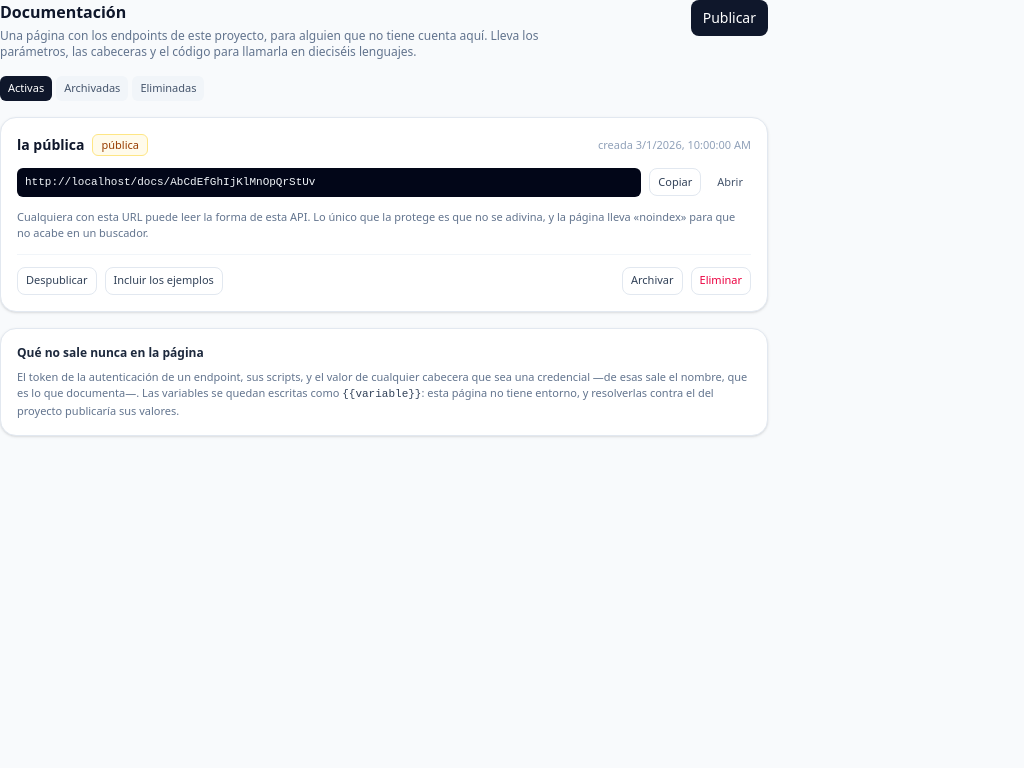
it: los tres filtros de la documentación › eliminar lo dice, y un fallo también
The width and height of the screenshot is (1024, 768).
Click the button "Eliminar".
click(721, 280)  # box [691,266,751,294]
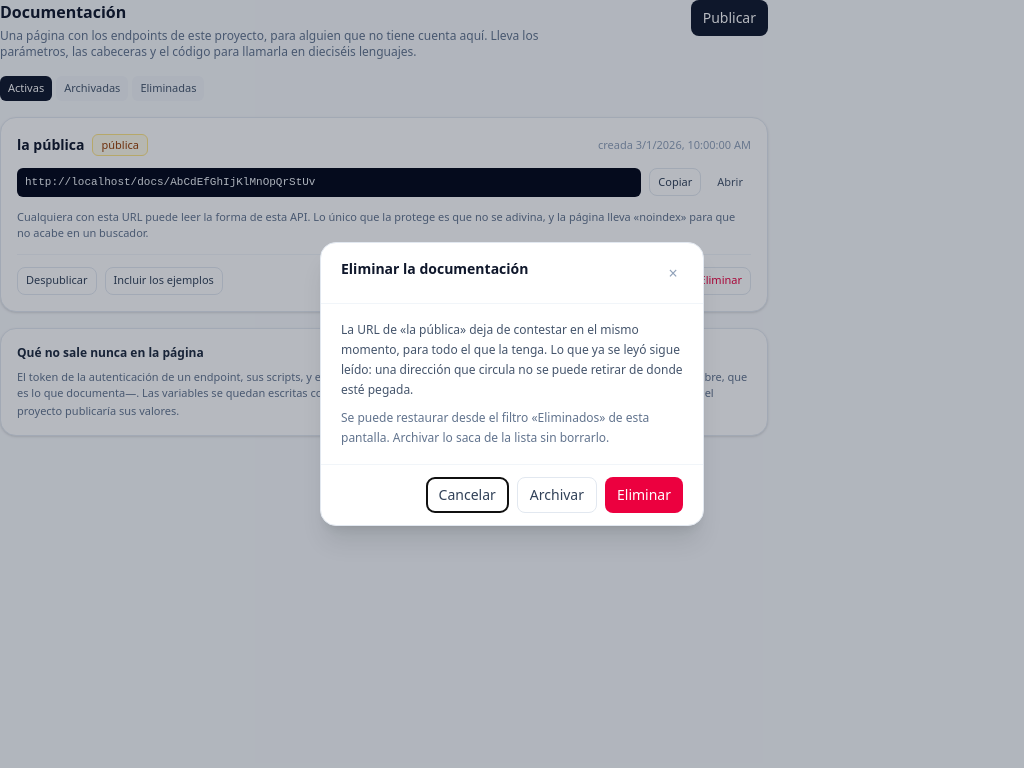
Click the button "Eliminar".
click(644, 495)  # box [605,477,683,513]
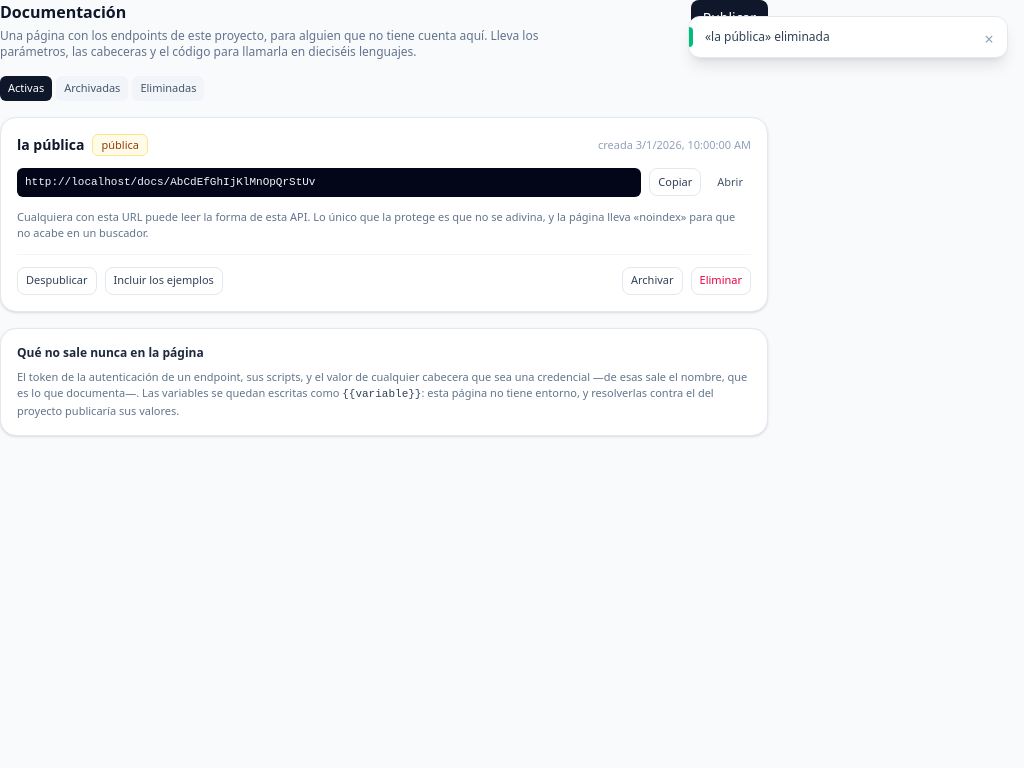
Expected: the text "«la pública» eliminada" is shown, [705,28,830,45]
Click the button "Eliminar".
click(721, 280)  # box [691,266,751,294]
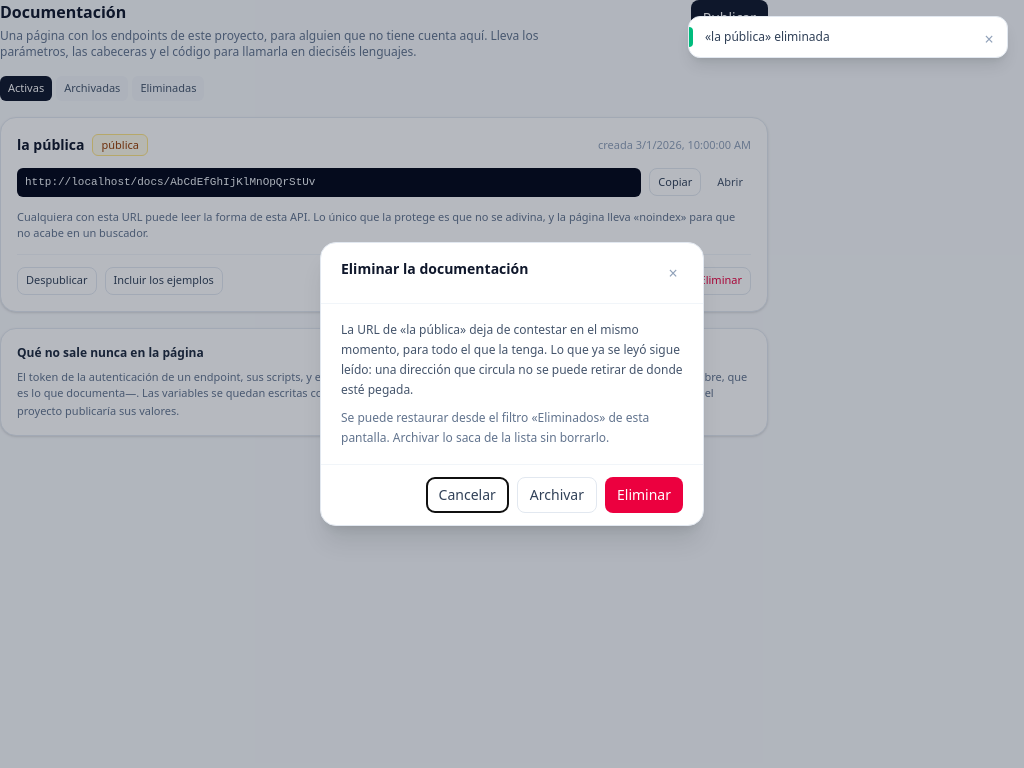
Click the button "Eliminar".
click(644, 495)  # box [605,477,683,513]
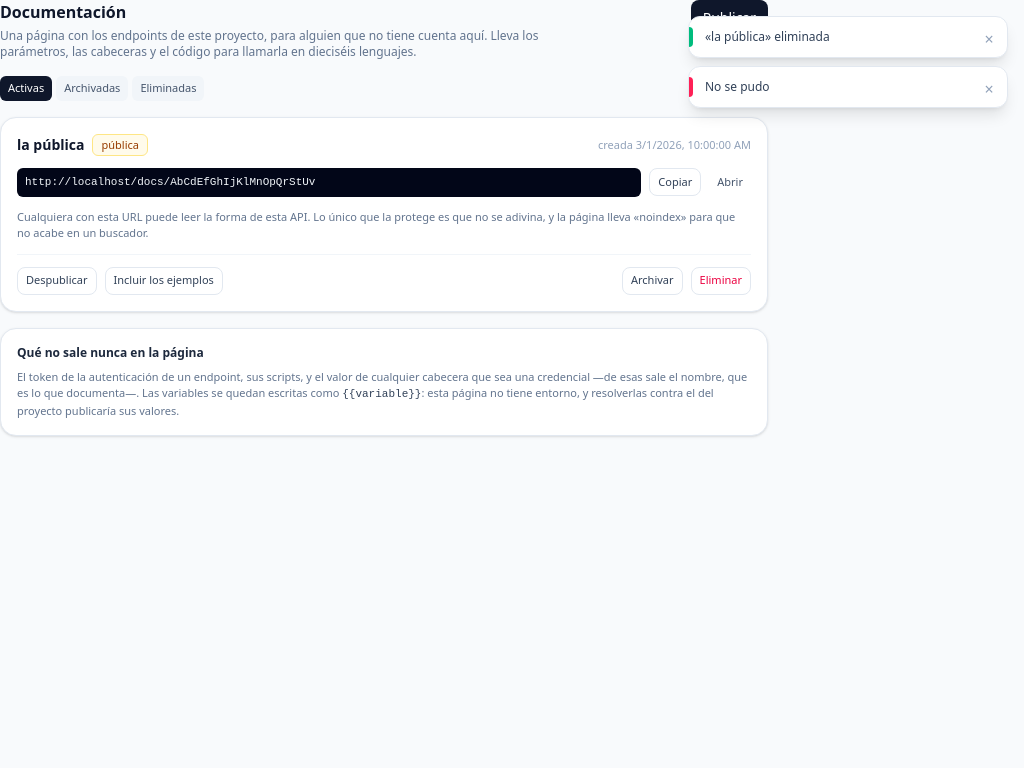
Expected: the text "No se pudo" is shown, [705,78,770,95]
